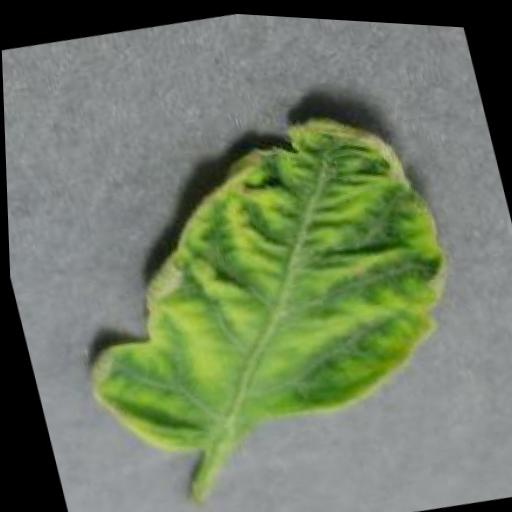Yellow Leaf Curl Virus: (29, 77, 481, 479)
